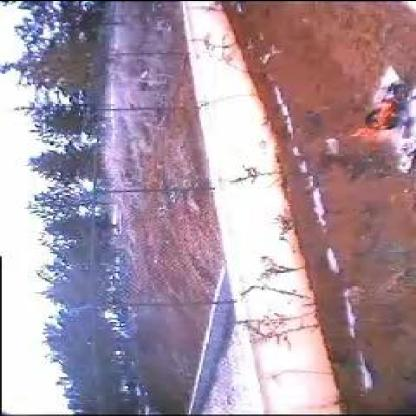foggia-v2-map80-epoch100 - v1 4323: (352, 127, 380, 147)
